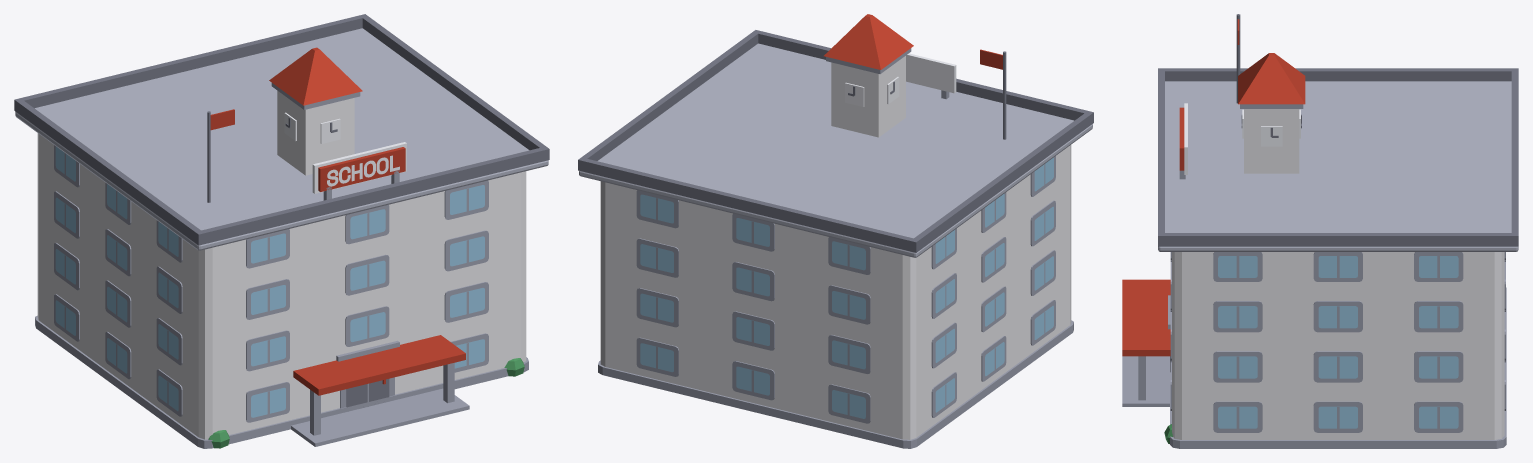
Rendered from school-2x2-4f.glb.
The picture shows the model from 3 angles, left to right: view 1: azimuth 30°, elevation 25°; view 2: azimuth 150°, elevation 25°; view 3: azimuth 270°, elevation 25°; orthographic projection. The views are drawn at different scales.
Parts seen in each view (by area): view 1: school-2x2-4f; view 2: school-2x2-4f; view 3: school-2x2-4f.
Boxes of the visible parts, x1=… form: school-2x2-4f: x1=14, y1=14, x2=549, y2=448; school-2x2-4f: x1=578, y1=14, x2=1093, y2=448; school-2x2-4f: x1=1122, y1=14, x2=1518, y2=448.
Size of the model in its own units: 2 by 1.76 by 2.
1 material, 1 textured.
